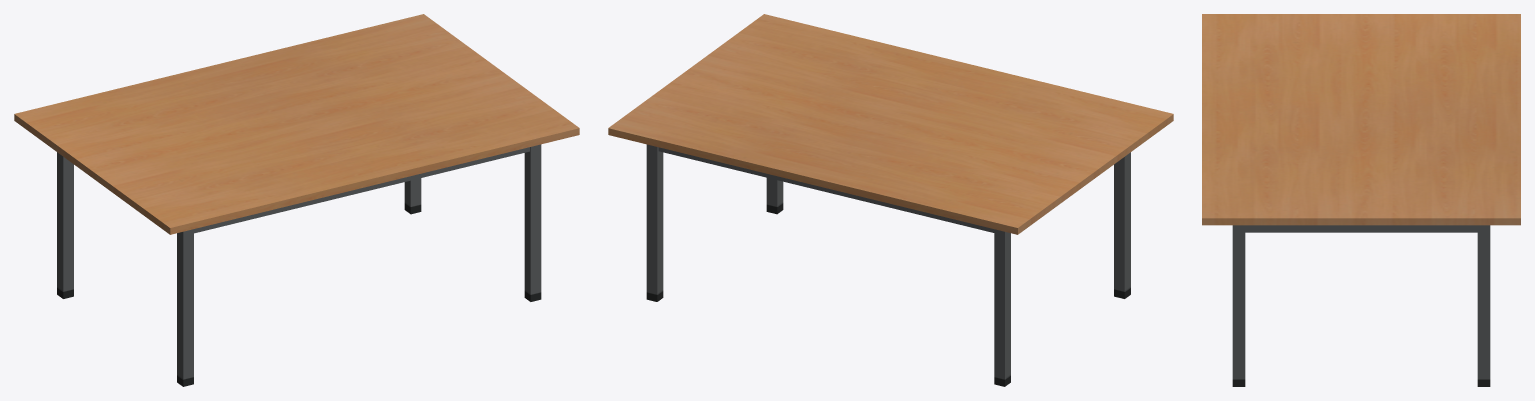
Rendered from table2.FBX.
The picture shows the model from 3 angles, left to right: view 1: azimuth 30°, elevation 25°; view 2: azimuth 150°, elevation 25°; view 3: azimuth 270°, elevation 25°; orthographic projection. The views are drawn at different scales.
Parts seen in each view (by area): view 1: table2; view 2: table2; view 3: table2.
Part boxes in pixels (left/top/right/bottom): table2: left=14, top=14, right=579, bottom=386; table2: left=608, top=14, right=1173, bottom=386; table2: left=1202, top=14, right=1520, bottom=386.
Bounding box in the file's own units: 200 × 82.42 × 132.
